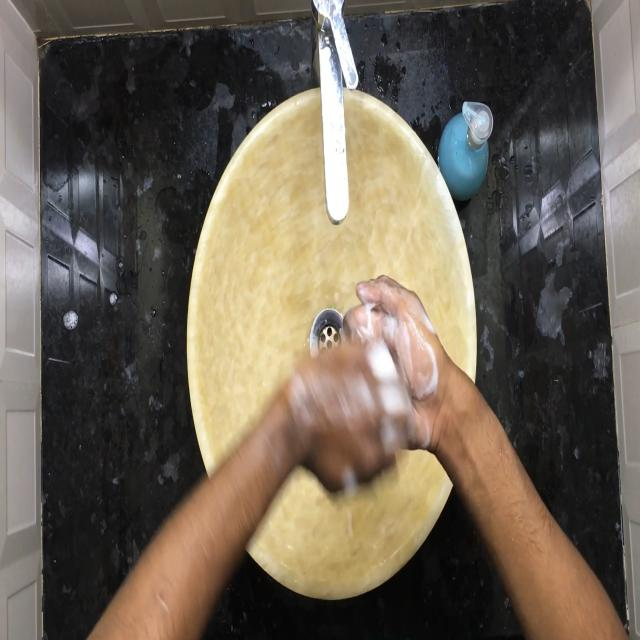step_4: (284, 273, 450, 468)
